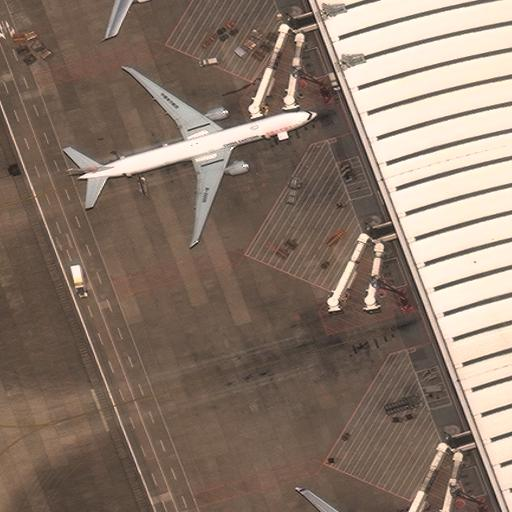Large Civil Transport: (65, 67, 318, 243), (56, 0, 147, 33), (292, 488, 388, 511)
